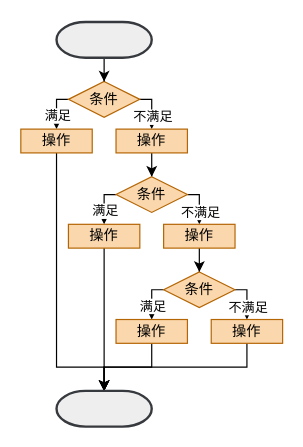
The diagram is 303 pixels wide and 447 high, and some of its shapes have lost their labels. The centre of each missing label's shape, as x and y in pixels:
程序开始: the point at 103,39
程序结束: the point at 103,408
